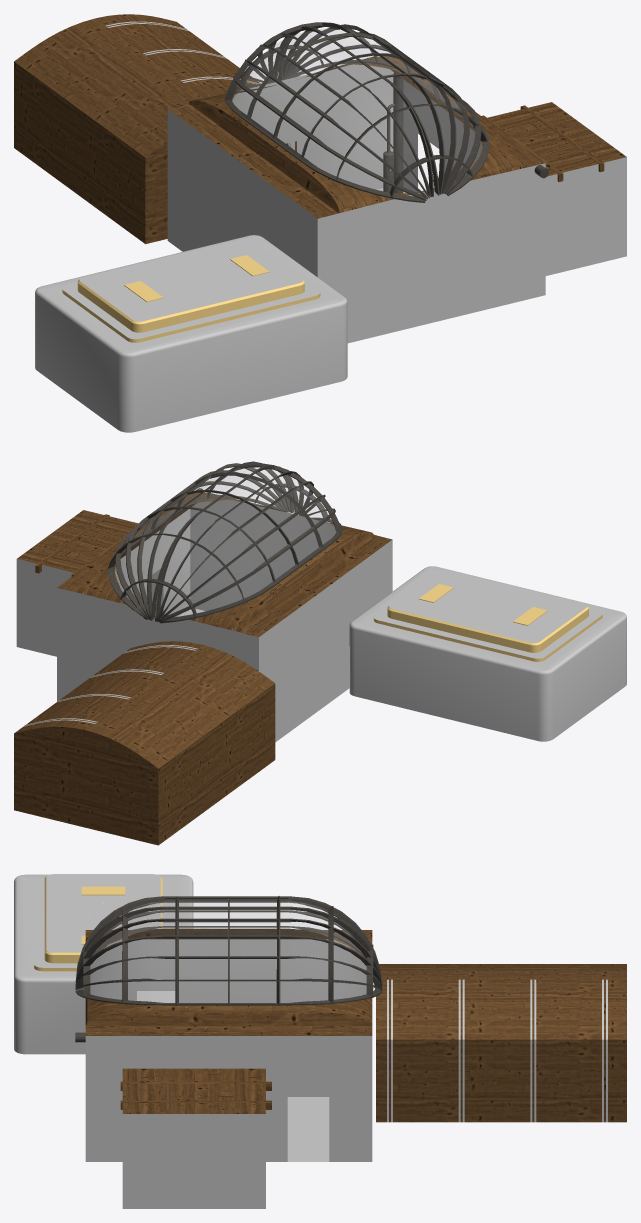
File: map.fbx
3 views of the same model, one above another, from view 1: azimuth 30°, elevation 25°; view 2: azimuth 150°, elevation 25°; view 3: azimuth 270°, elevation 25° (orthographic). The views are drawn at different scales.
Visible parts, largest first — view 1: Circle.001, Cube.001, Cube.003, Cube.002; view 2: Circle.001, Cube.003, Cube.001, Cube.002; view 3: Circle.001, Cube.003, Cube.002, Cube.001.
Boxes of the visible parts, x1=… form: Circle.001: x1=167, y1=22, x2=548, y2=343; Cube.001: x1=35, y1=235, x2=347, y2=432; Cube.003: x1=14, y1=14, x2=296, y2=244; Cube.002: x1=481, y1=102, x2=626, y2=275; Circle.001: x1=57, y1=461, x2=392, y2=742; Cube.003: x1=14, y1=641, x2=275, y2=845; Cube.001: x1=349, y1=566, x2=626, y2=741; Cube.002: x1=16, y1=510, x2=166, y2=656; Circle.001: x1=75, y1=896, x2=382, y2=1161; Cube.003: x1=376, y1=964, x2=626, y2=1122; Cube.002: x1=120, y1=1068, x2=271, y2=1208; Cube.001: x1=14, y1=874, x2=193, y2=1054.
Size of the model in its own units: 1720 by 632 by 1710.
